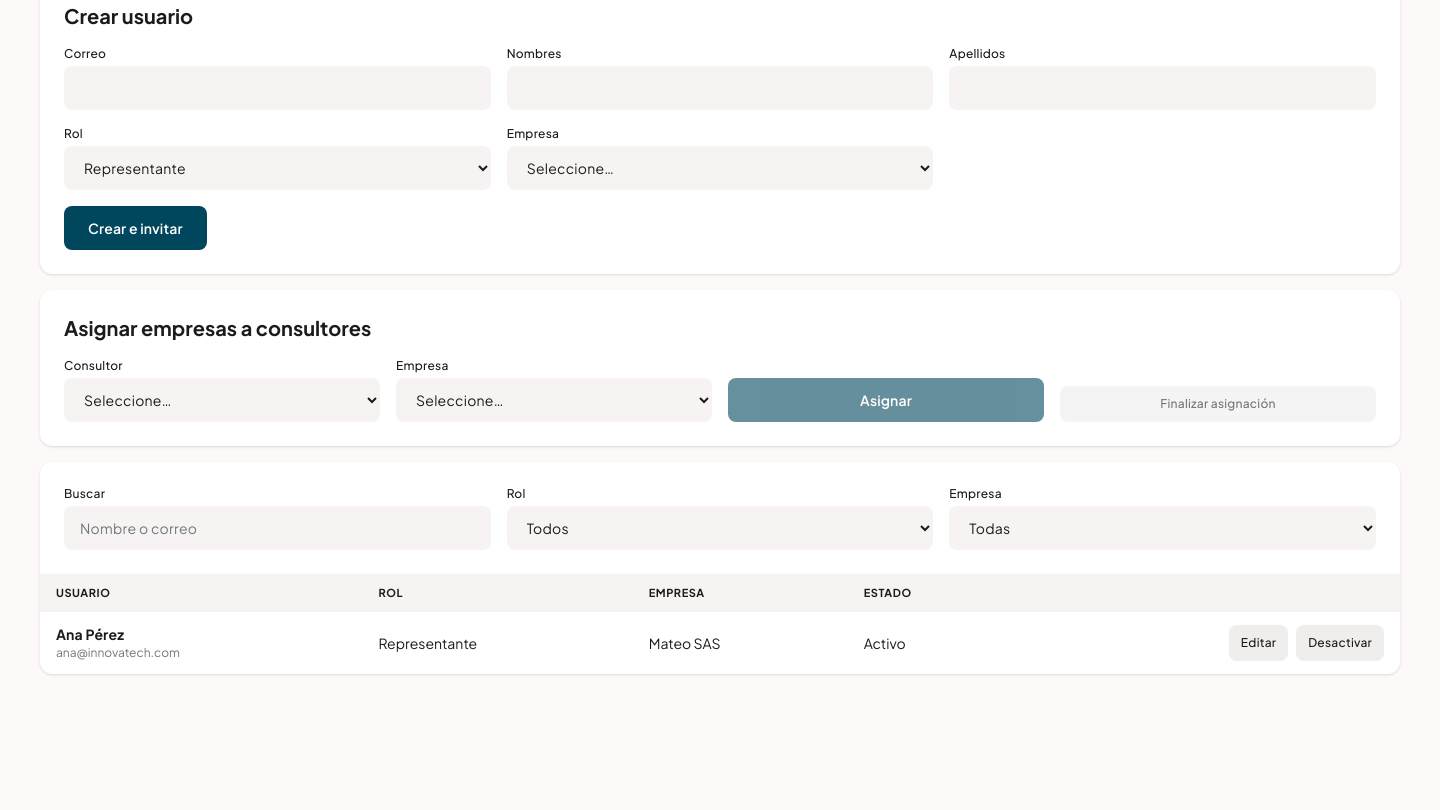
Editar el rol de un usuario › muestra el rol actual y, para un representante, su empresa (sin las inactivas)
(page scrolled)
Click the button "Editar" at x=1259, y=643, box top-left (1229, 625), bottom-right (1288, 661)
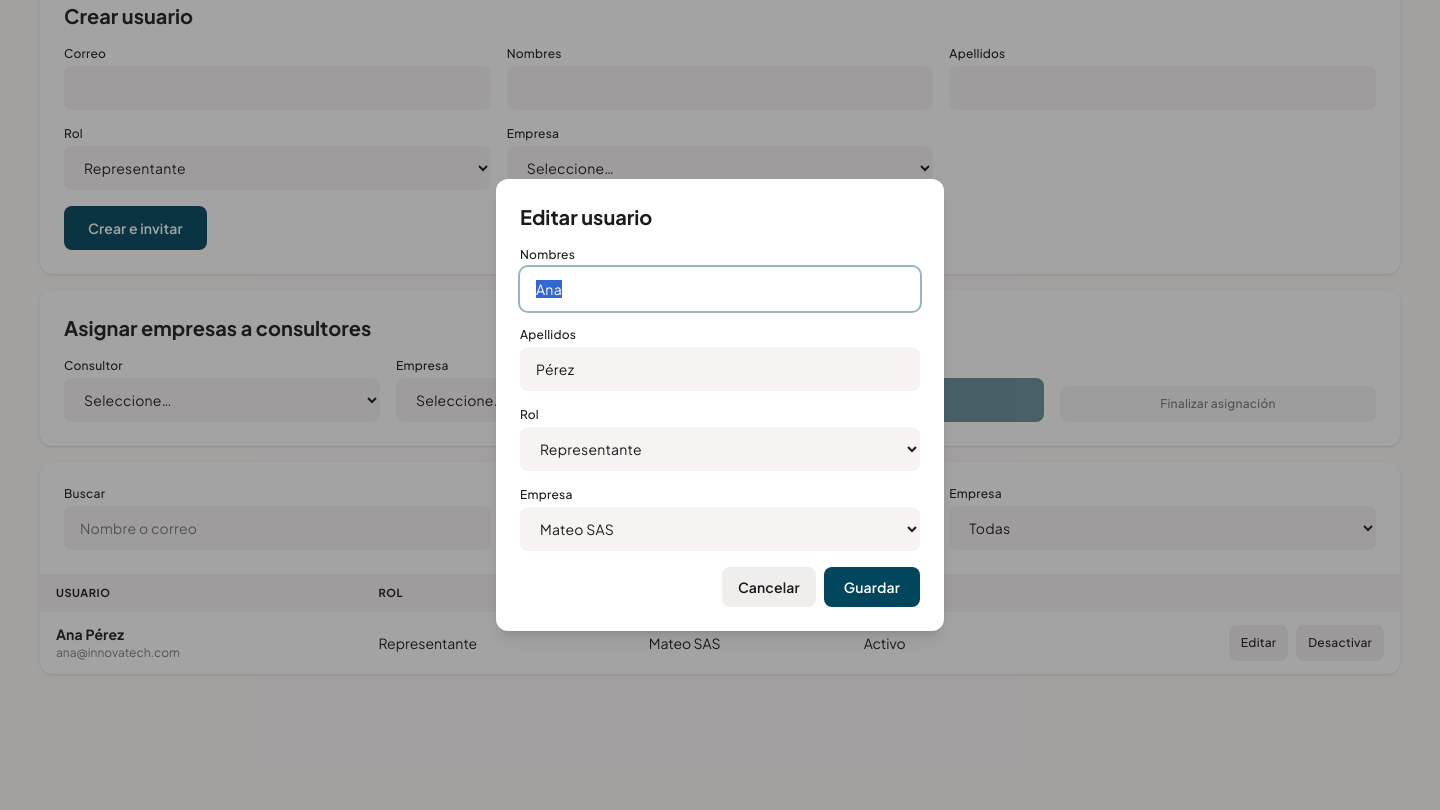
Expected: the dropdown labelled "Rol" shows "Representante", top-left (520, 427), bottom-right (920, 471)
Expected: the dropdown labelled "Empresa" shows "Mateo SAS", top-left (520, 507), bottom-right (920, 551)
